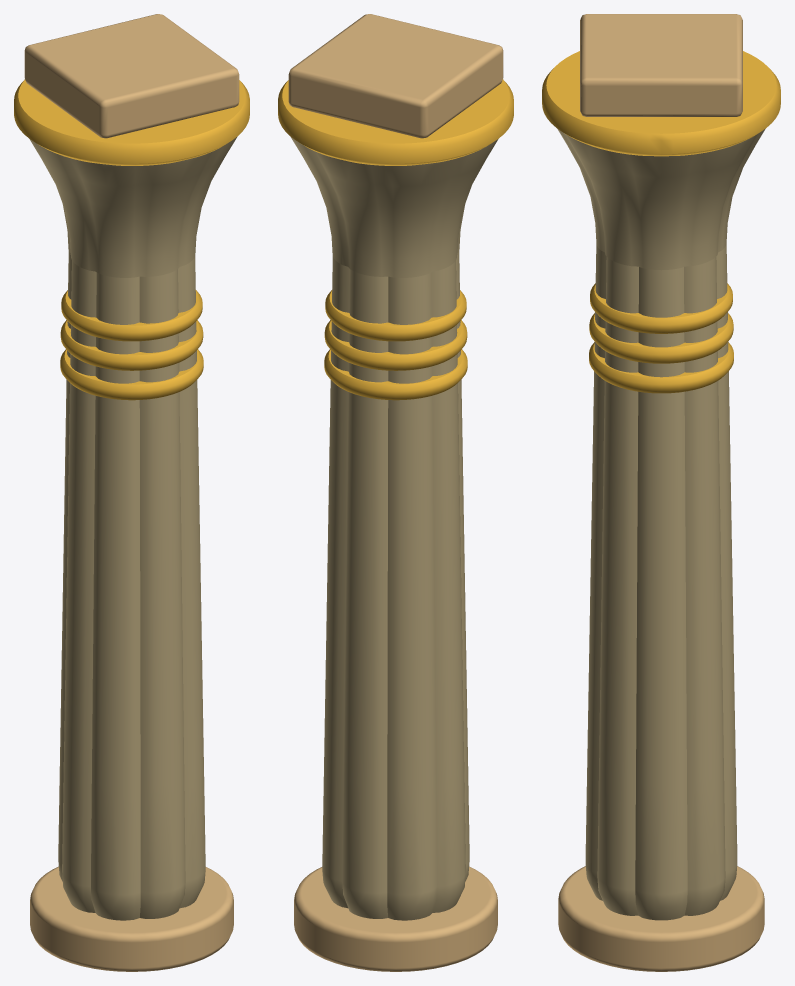
The model's file is K_ColumnPapyrus.fbx.
3 renders of one model, left to right at view 1: azimuth 30°, elevation 25°; view 2: azimuth 150°, elevation 25°; view 3: azimuth 270°, elevation 25°, orthographic.
Visible parts, largest first — view 1: K_ColumnPapyrus; view 2: K_ColumnPapyrus; view 3: K_ColumnPapyrus.
Boxes of the visible parts, x1=… form: K_ColumnPapyrus: x1=14, y1=14, x2=249, y2=971; K_ColumnPapyrus: x1=278, y1=14, x2=513, y2=971; K_ColumnPapyrus: x1=542, y1=14, x2=780, y2=971.
Size of the model in its own units: 1.1 by 4.5 by 1.1.
